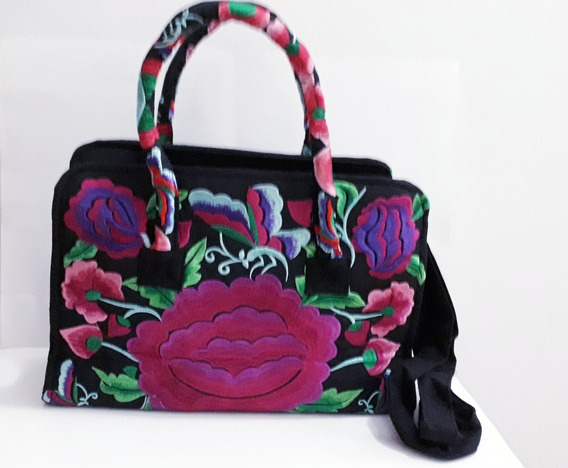cartera: (40, 1, 485, 464)
